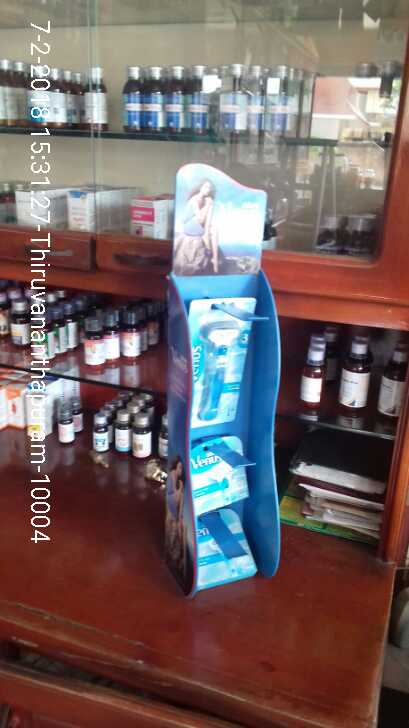venus: (190, 296, 250, 423), (187, 435, 252, 507), (196, 514, 245, 584)
